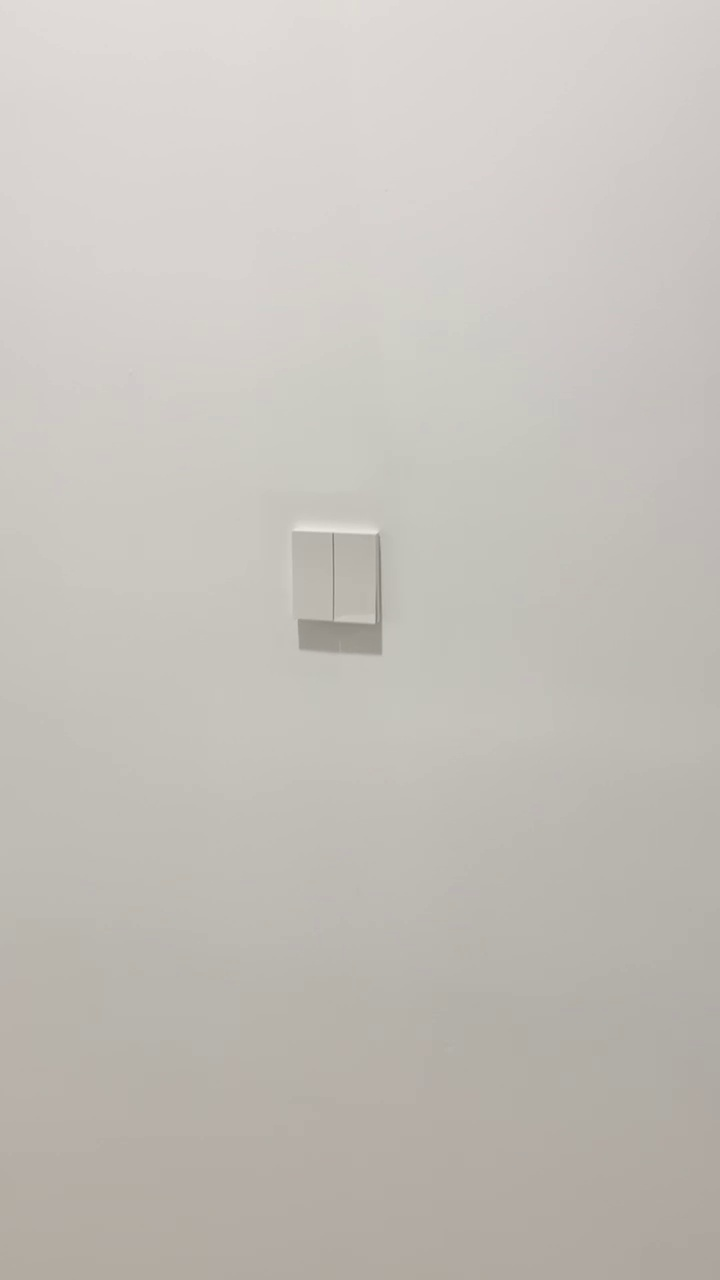button: (286, 522, 388, 631)
